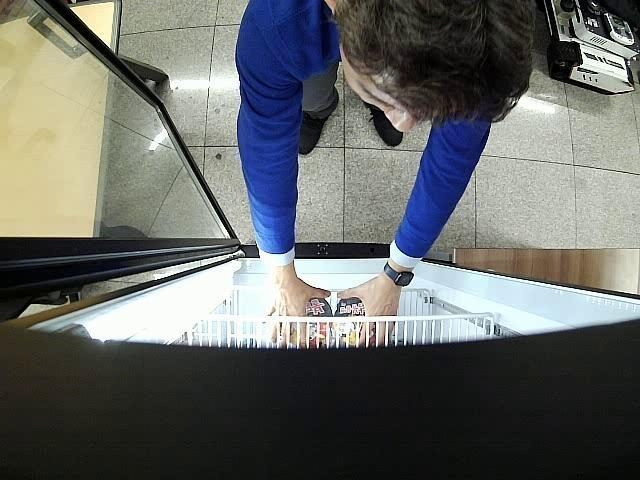07_buldak_L: (279, 297, 335, 347), (334, 298, 374, 344)
